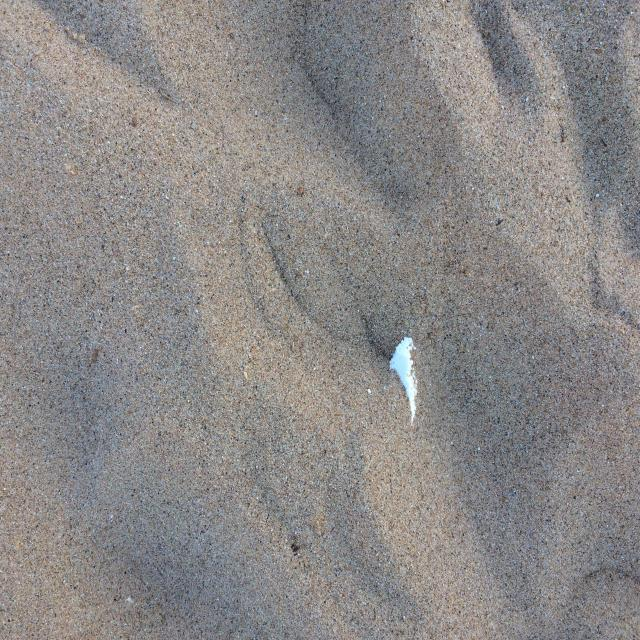litter: (390, 337, 418, 426)
